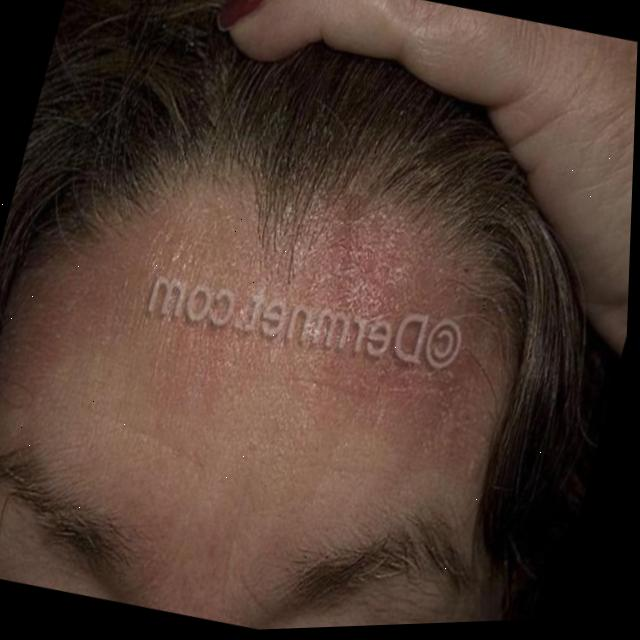Eczema: (0, 132, 499, 510)
